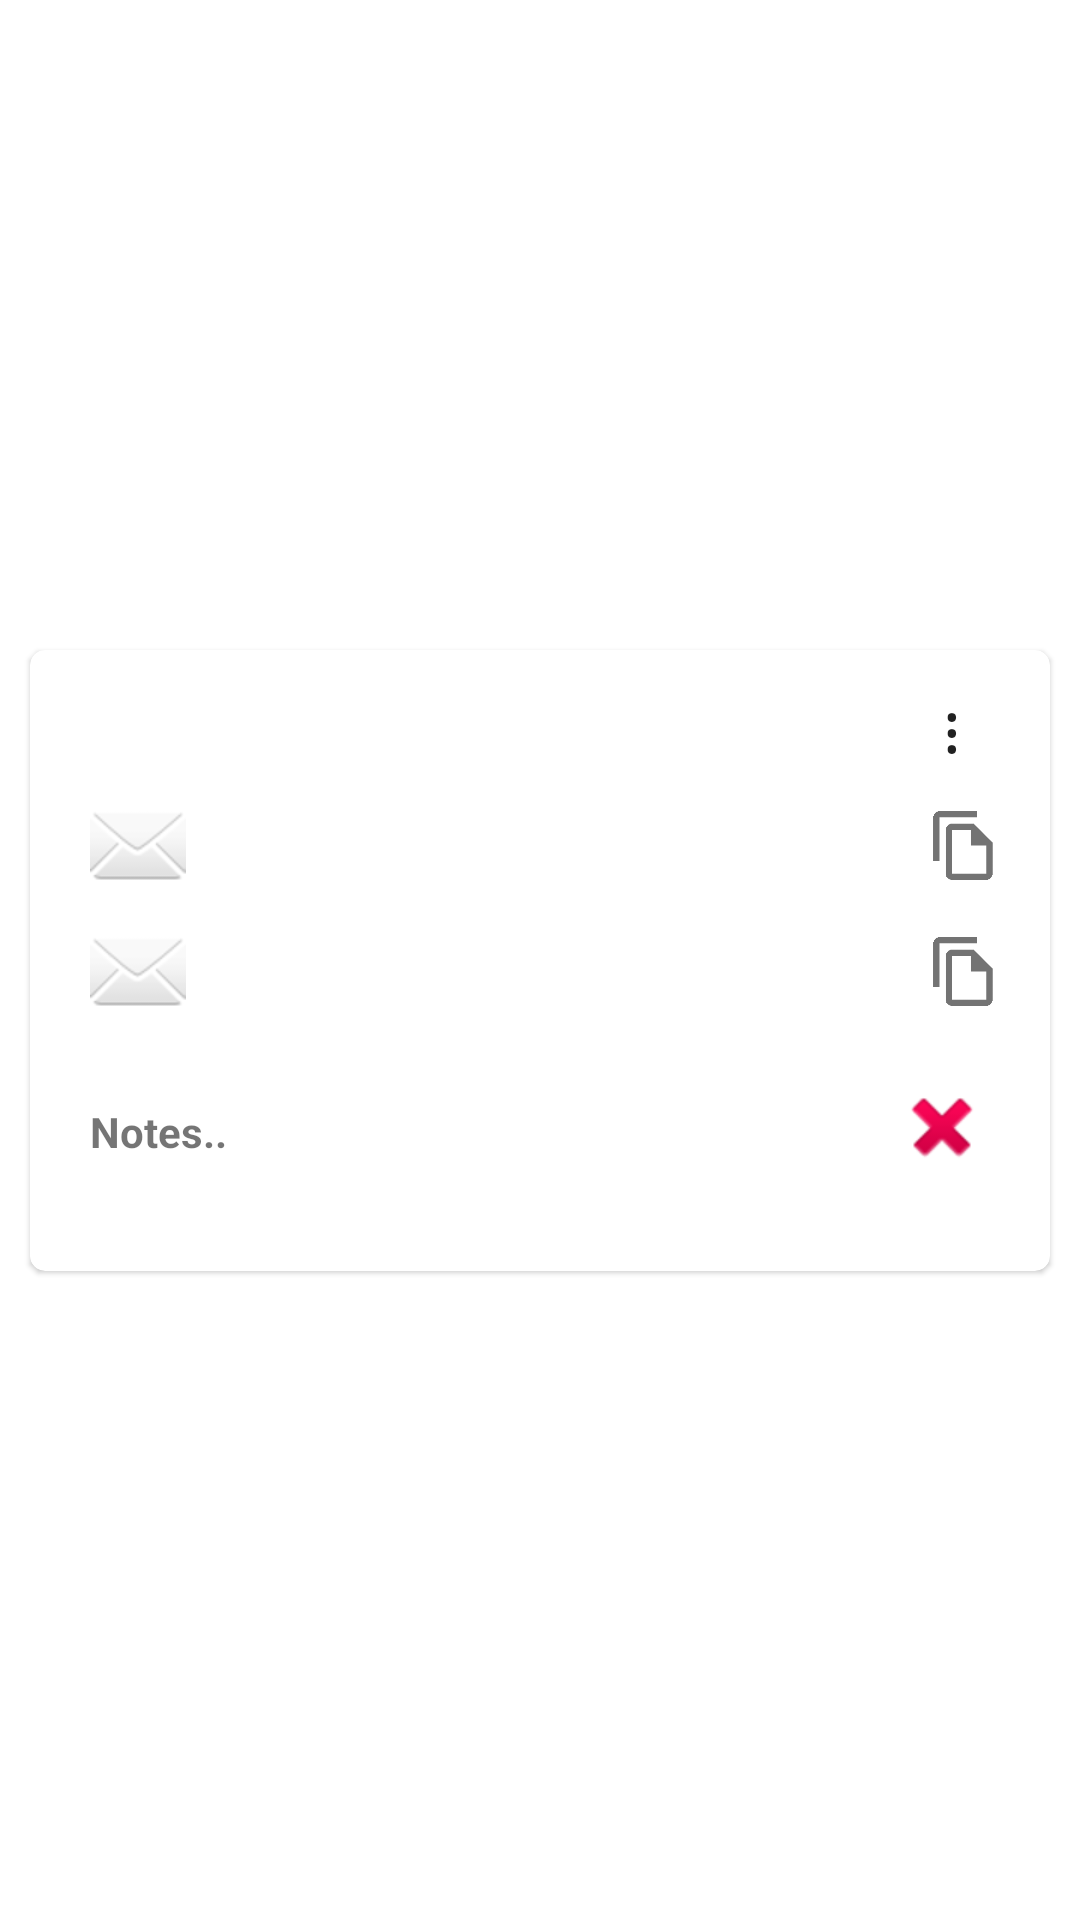

Where to tap for icons on this 1080px×1920px app screen, as [x,y]:
delete: [942,1127]
email: [138,847], [138,973]
